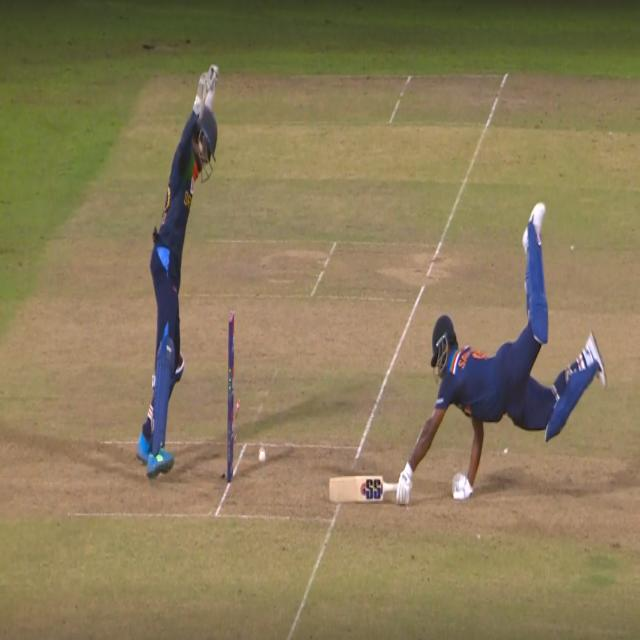ball: (257, 445, 266, 469)
